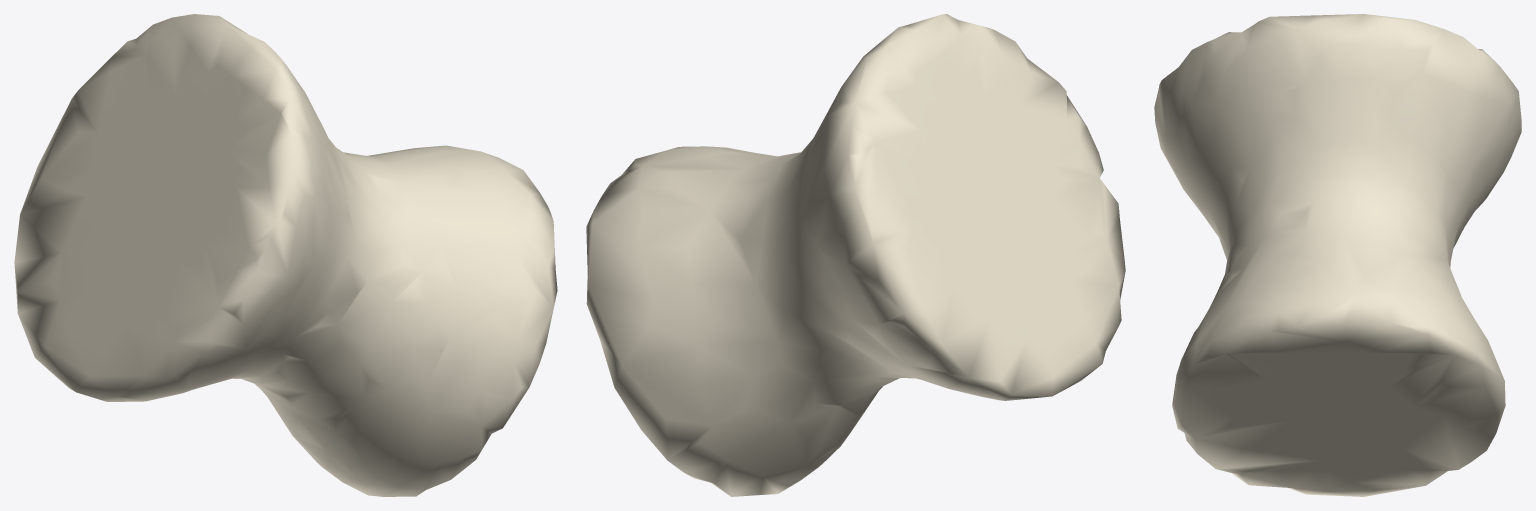
The model's file is caudal_4.glb.
3 renders of one model, left to right at view 1: azimuth 30°, elevation 25°; view 2: azimuth 150°, elevation 25°; view 3: azimuth 270°, elevation 25°, orthographic. The views are drawn at different scales.
Parts seen in each view (by area): view 1: geometry_0; view 2: geometry_0; view 3: geometry_0.
Boxes of the visible parts, box(x1,y1,x2,y2) form: geometry_0: box(14, 14, 557, 496); geometry_0: box(586, 14, 1125, 496); geometry_0: box(1154, 14, 1521, 496).
Size of the model in its own units: 0.0719 by 0.071 by 0.0544.
